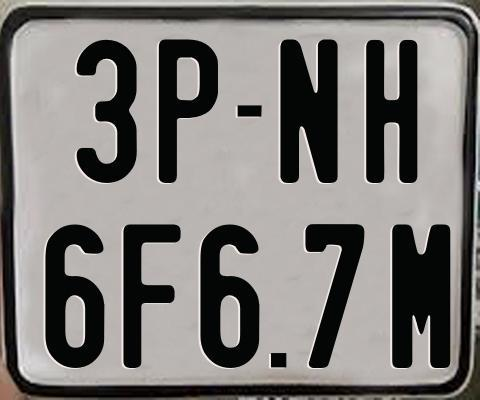3: (76, 37, 139, 182)
6: (43, 224, 107, 370), (197, 223, 257, 370)
7: (305, 222, 367, 372)
F: (123, 221, 186, 368)
H: (365, 40, 417, 186)
M: (391, 224, 454, 369)
N: (278, 37, 336, 183)
P: (158, 36, 219, 183)
